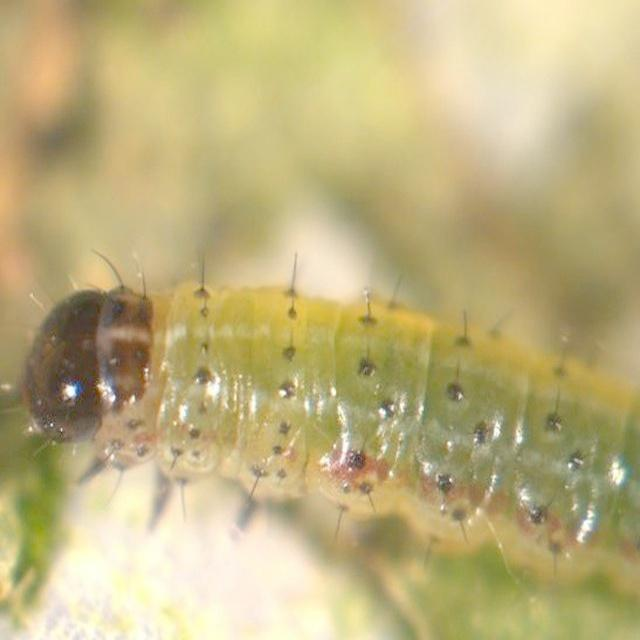worm: (12, 248, 639, 568)
